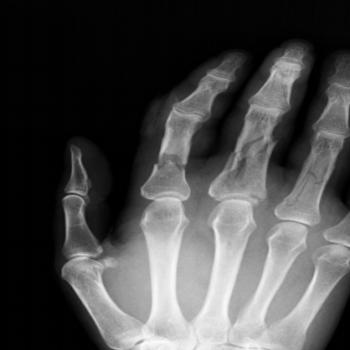Fracture: (224, 132, 285, 172), (144, 146, 199, 175), (289, 161, 337, 190)
